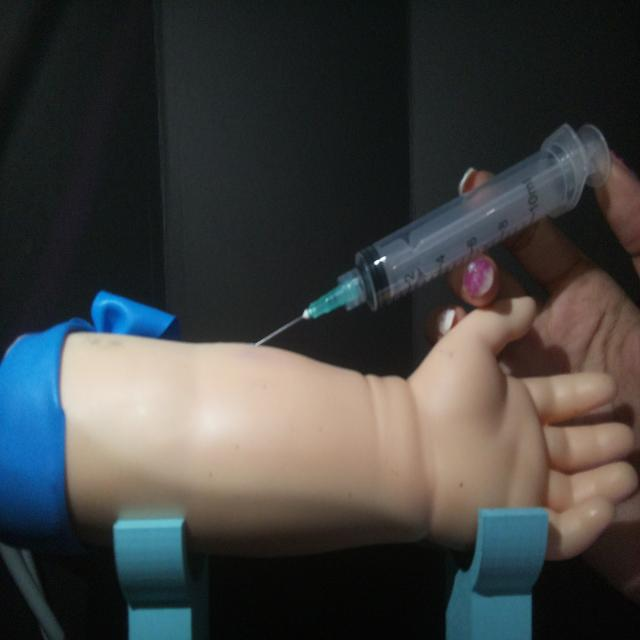28deg: (249, 116, 614, 350)
